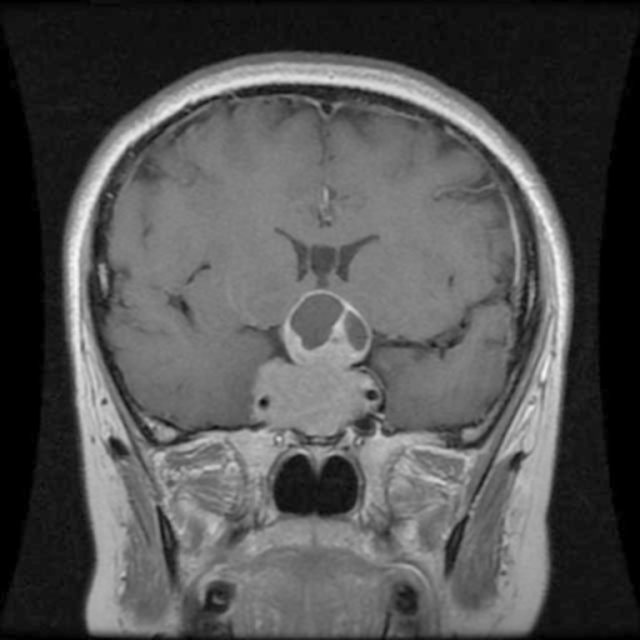no tumor: (248, 300, 402, 436)
